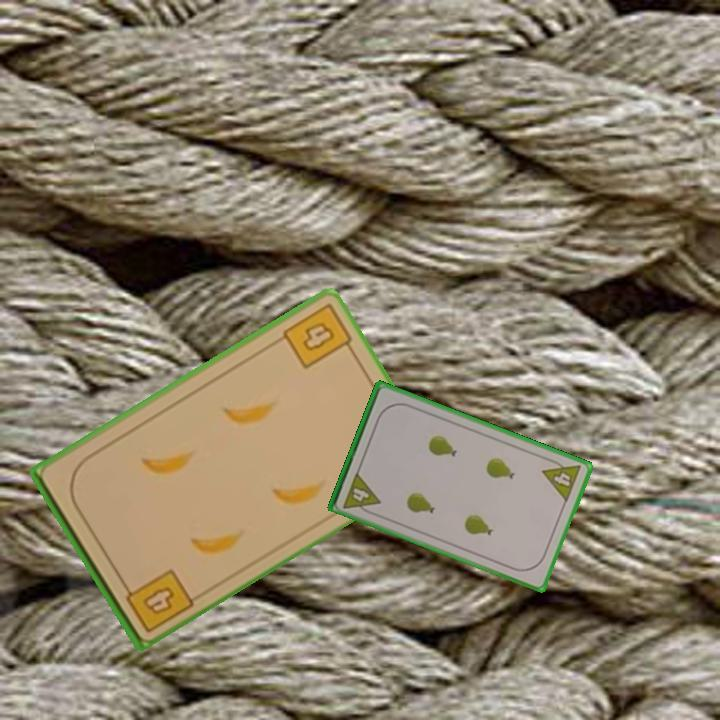4b: (278, 300, 358, 372), (117, 565, 196, 636)
4p: (539, 454, 584, 505), (339, 468, 383, 518)
